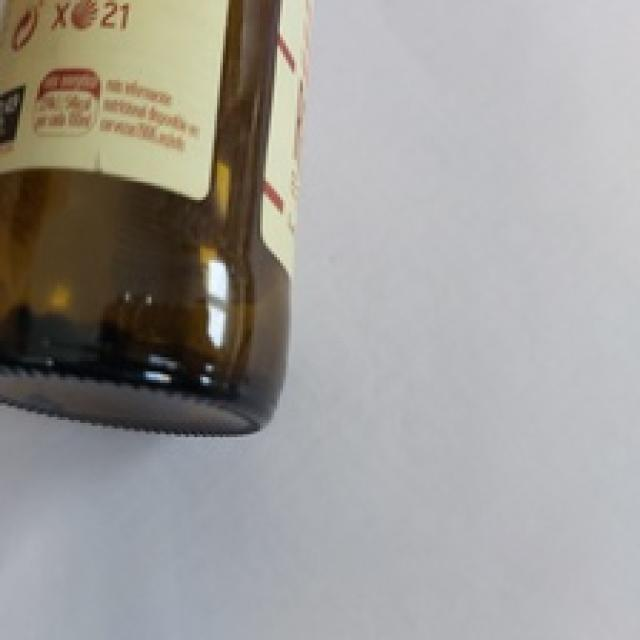Glass: (0, 0, 318, 435)
